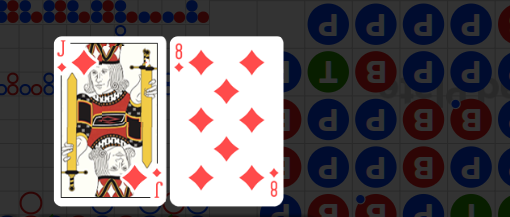8D: (174, 42, 185, 74)
9D: (55, 39, 67, 73)
